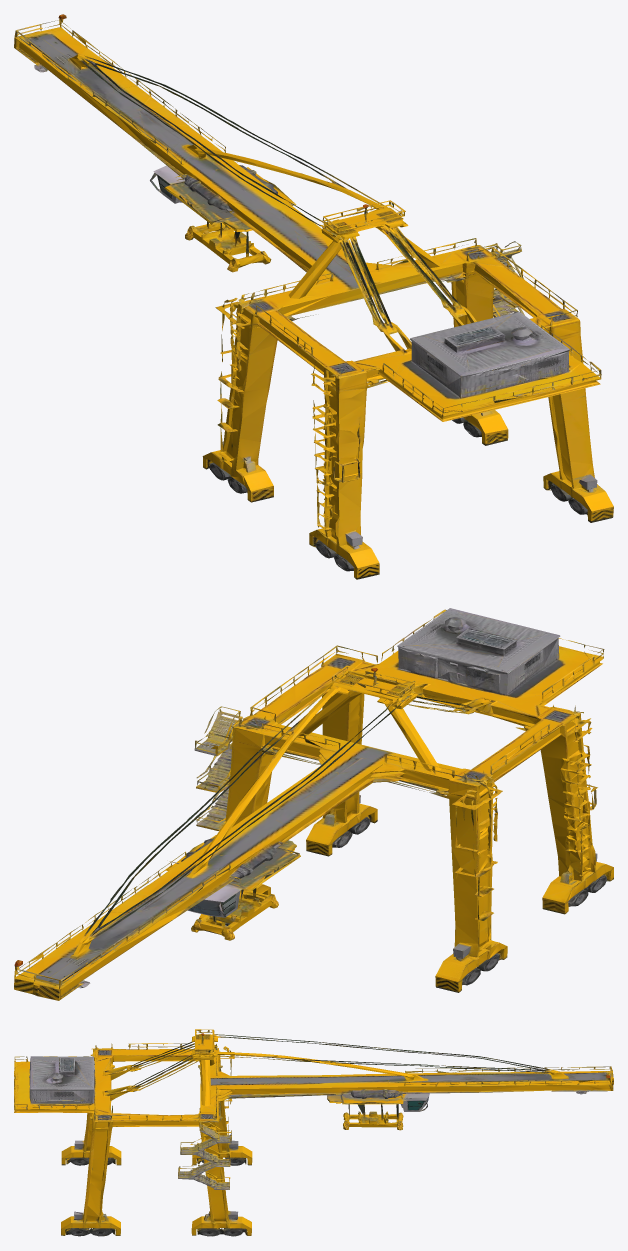
Rendered from kran.glb.
3 renders of one model, top to bottom at view 1: azimuth 30°, elevation 25°; view 2: azimuth 150°, elevation 25°; view 3: azimuth 270°, elevation 25°, orthographic. The views are drawn at different scales.
Visible parts, largest first — view 1: Mesh_0; view 2: Mesh_0; view 3: Mesh_0.
Part boxes in pixels (x1,y1,x2,y2): Mesh_0: (14,14,613,579); Mesh_0: (14,608,613,1000); Mesh_0: (14,1029,613,1236).
Size of the model in its own units: 17.02 by 15.08 by 50.54.
1 material, 1 textured.
